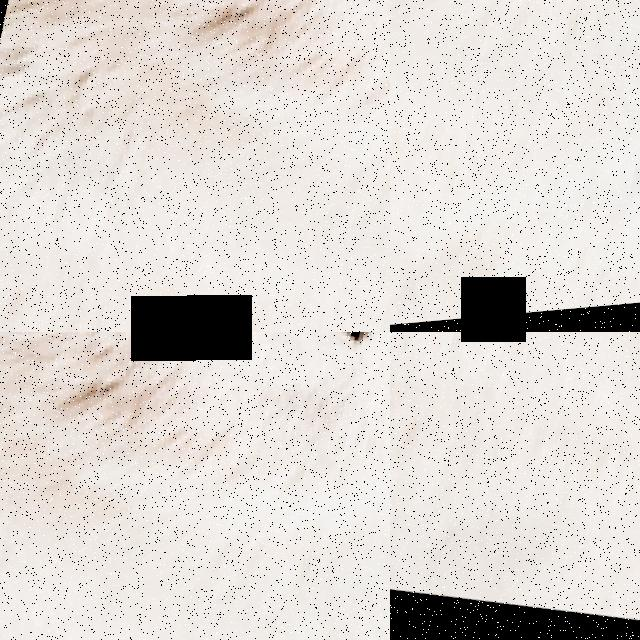wolf: (0, 332, 390, 640), (390, 332, 640, 640), (390, 0, 640, 239), (6, 0, 390, 135)
